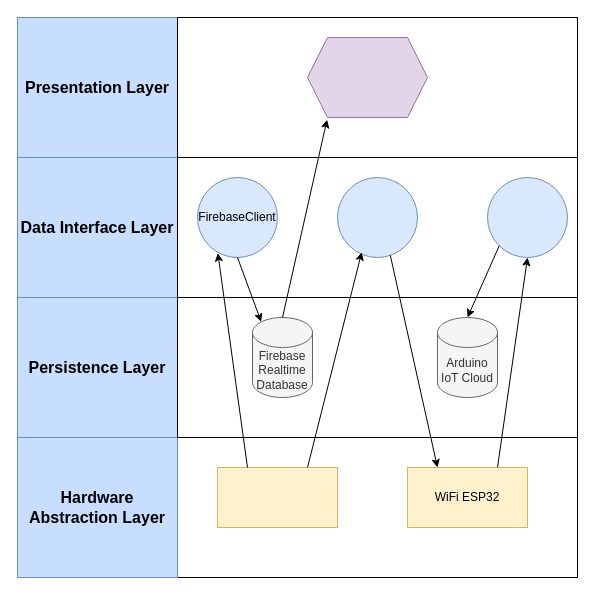
Image size: 595x595. Some labels were removed from this diagram. The centre of each missing label's shape, as x and y in pixels:
"CloudClient" belongs at point 527,217.
"Flutter App" belongs at point 367,77.
"Sensor ESP32" belongs at point 277,497.
"UARTHandler" belongs at point 377,217.
